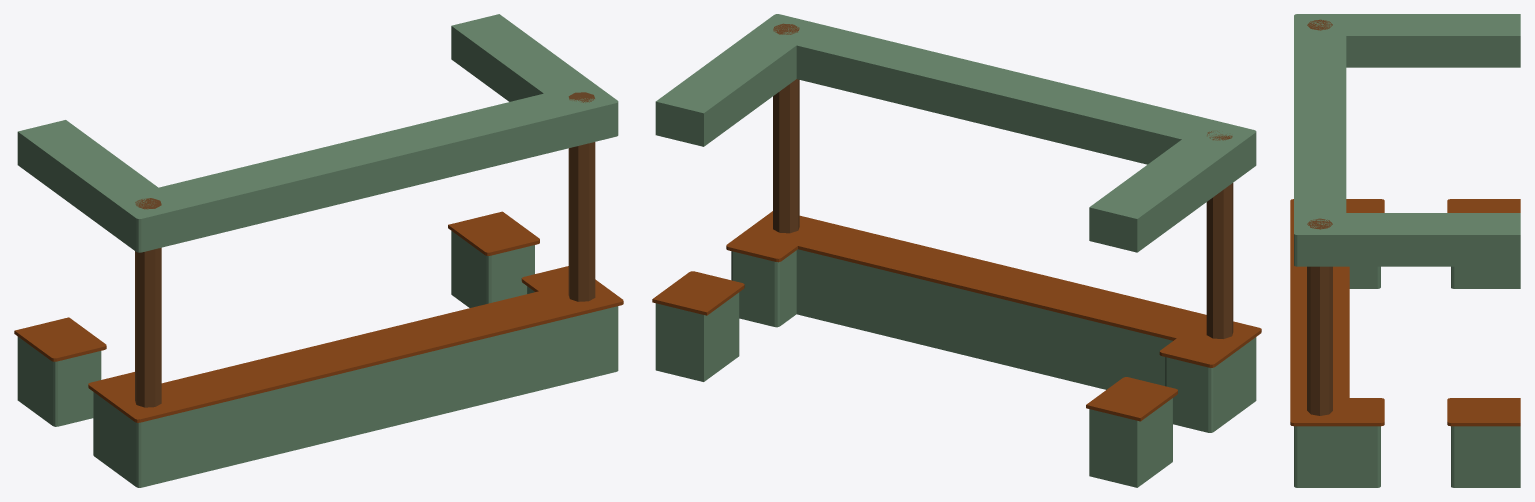
Rendered from Mesada.fbx.
3 views of the same model, side by side, from view 1: azimuth 30°, elevation 25°; view 2: azimuth 150°, elevation 25°; view 3: azimuth 270°, elevation 25° (orthographic). The views are drawn at different scales.
Parts seen in each view (by area): view 1: Mesada; view 2: Mesada; view 3: Mesada.
Boxes of the visible parts, bbox=[...] form: Mesada: bbox=[14, 14, 623, 487]; Mesada: bbox=[652, 14, 1261, 487]; Mesada: bbox=[1290, 14, 1520, 487].
Size of the model in its own units: 760 by 400 by 330.
